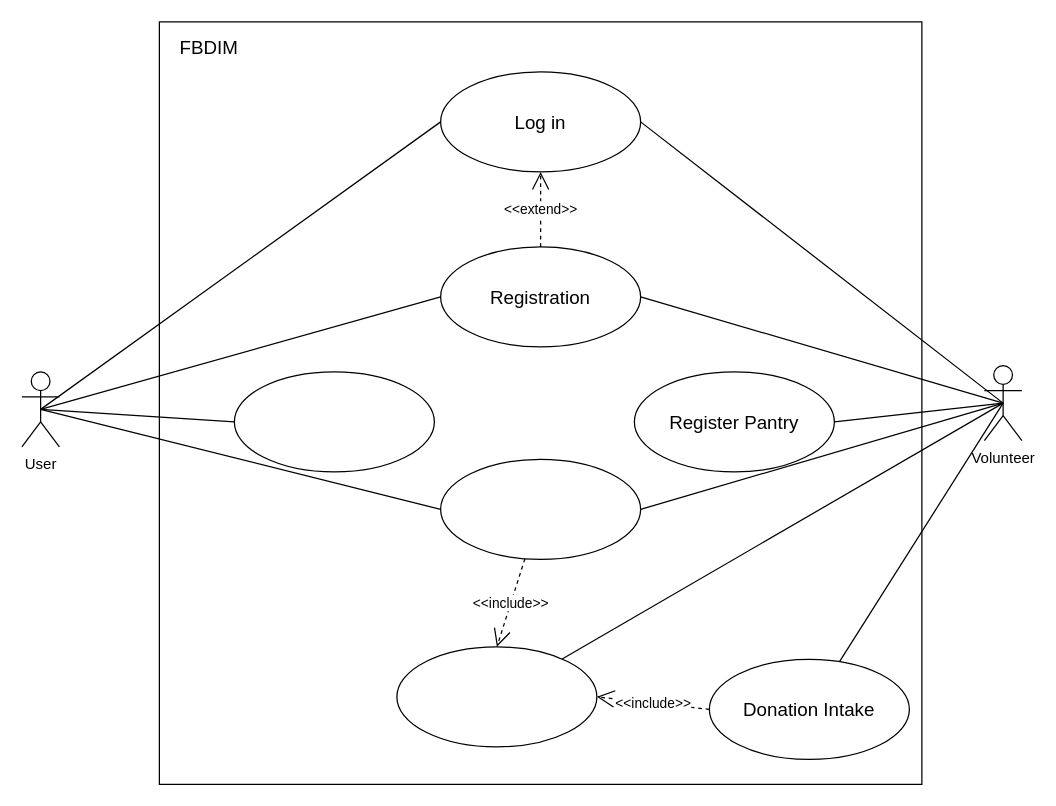
Image size: 1056x806. Some labels were removed from this diagram. The shapes that lost their labels are listed below. From the top down, each one's centre as x and y in pixels, then its label:
pixel 333 421: Pantry Discovery
pixel 540 508: Volunteer Distribution
pixel 496 696: Inventory Auditing
